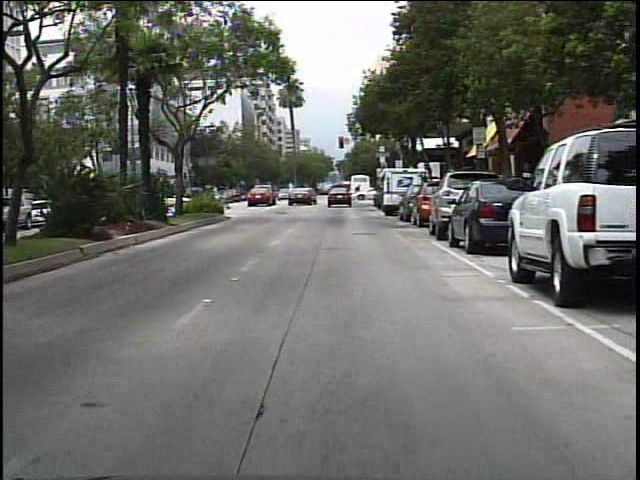person: (351, 181, 367, 202), (300, 184, 314, 205)
